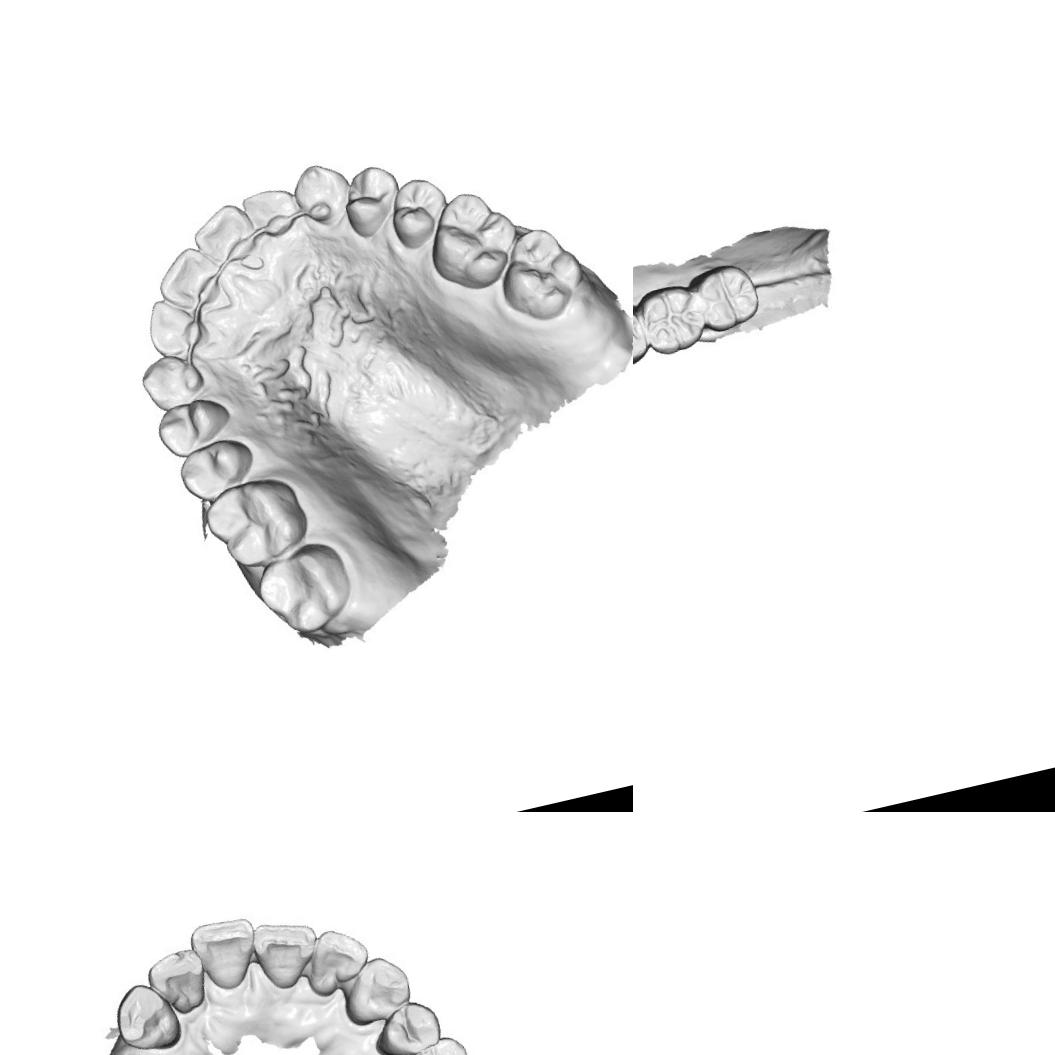canine: (102, 973, 190, 1055), (338, 952, 418, 1030), (136, 348, 207, 415), (290, 158, 352, 226)
incisor: (140, 942, 213, 1024), (252, 913, 322, 986), (186, 200, 256, 271), (191, 917, 259, 990), (306, 925, 369, 992), (155, 246, 219, 308), (143, 293, 204, 356), (240, 180, 303, 240)
molar: (198, 473, 311, 574), (249, 539, 358, 641), (486, 217, 590, 318), (423, 186, 521, 284), (683, 257, 766, 337), (633, 277, 711, 361)
premolar: (176, 438, 259, 504), (337, 164, 406, 237), (156, 396, 232, 457), (367, 998, 447, 1055), (386, 174, 450, 241), (390, 1034, 474, 1055), (633, 302, 654, 376)
